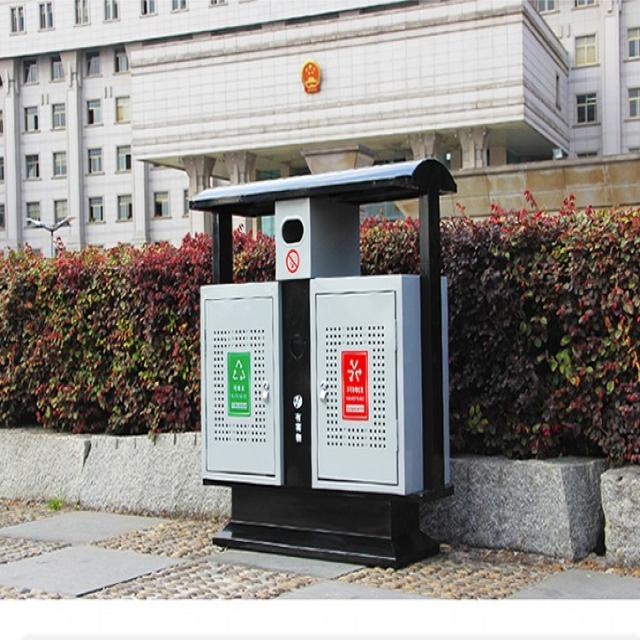ash bin: (189, 155, 455, 571)
